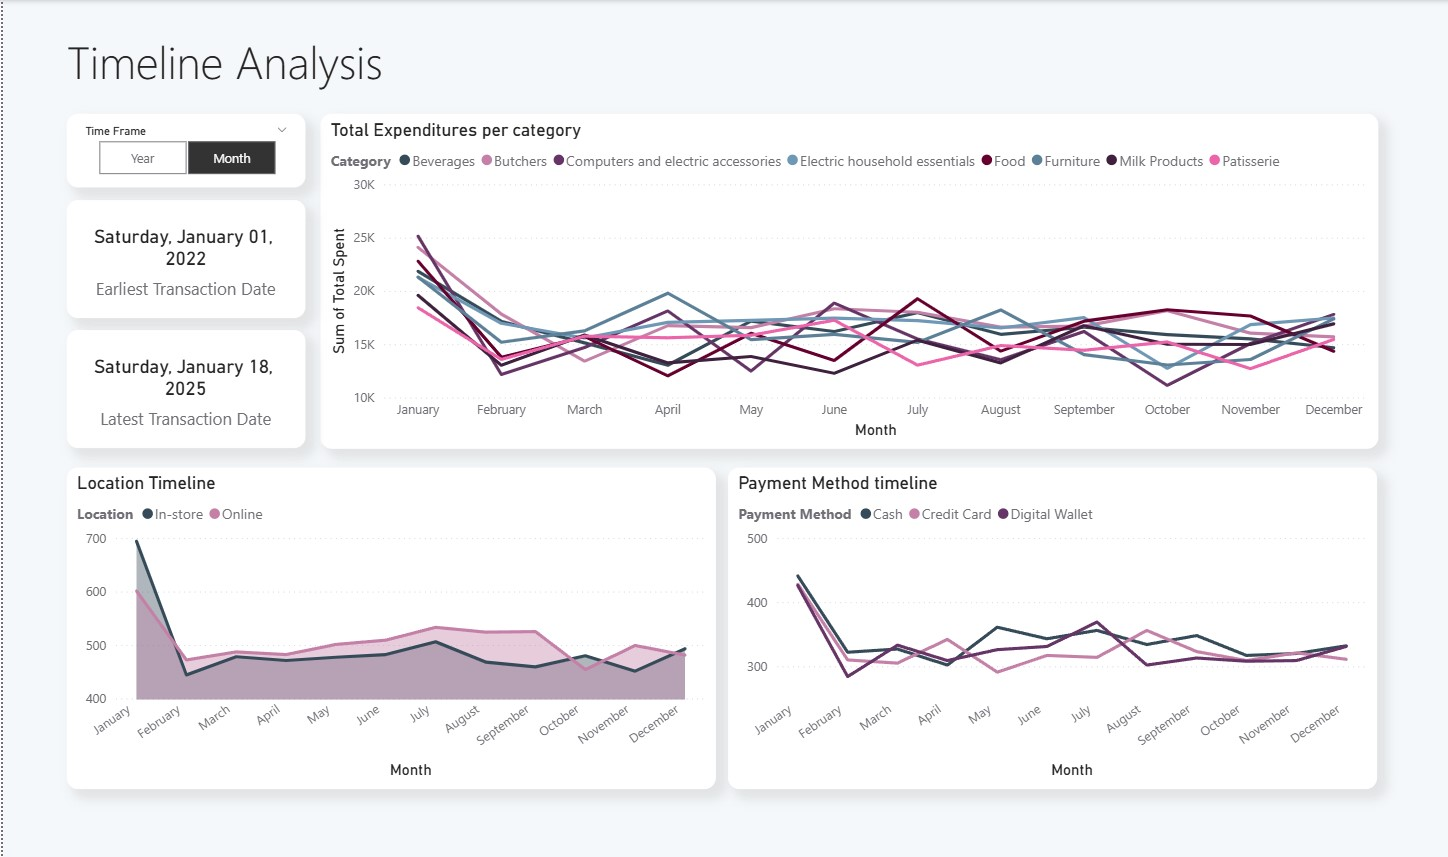

The page's visual inventory and layout, read from the dashboard file:
{"tool":"powerbi","page":{"name":"Timeline Analysis","canvas":[1380,820],"ordinal":2},"visuals":[{"type":"lineChart","title":"Total Expenditures per category","fields":{"Category":["Retail_data.Transaction Date.Variation.Date Hierarchy.Month"],"Y":["Sum(Retail_data.Total Spent)"],"Series":["Retail_data.Category"]},"box":[302.8,108.4,1010,320],"z":0},{"type":"slicer","fields":{"Values":["Parameter.Parameter"]},"box":[60.8,108.4,228,70],"z":1000},{"type":"card","fields":{"Values":["Min(Retail_data.Transaction Date)"]},"box":[60.8,191.4,228,113],"z":2000},{"type":"card","fields":{"Values":["Max(Retail_data.Transaction Date)"]},"box":[60.8,315.4,228,113],"z":3000},{"type":"areaChart","title":"Location Timeline","fields":{"Category":["Retail_data.Transaction Date.Variation.Date Hierarchy.Month"],"Y":["CountNonNull(Retail_data.Transaction ID)"],"Series":["Retail_data.Location"]},"box":[60.8,446.4,620,307.5],"z":3001},{"type":"lineChart","title":"Payment Method timeline","fields":{"Category":["Retail_data.Transaction Date.Variation.Date Hierarchy.Month"],"Y":["CountNonNull(Retail_data.Transaction ID)"],"Series":["Retail_data.Payment Method"]},"box":[692,446.4,620,307.5],"z":3002},{"type":"textbox","box":[56,24,464,74],"z":3003}]}

Visuals, with their boxes in screenshot pixels (x1, y1, x2, y2), scaled from the page's 1380x820 canvas onto the 1448x857 screenshot:
"Total Expenditures per category" lineChart: 318 113 1377 448
slicer - Parameter.Parameter: 64 113 303 186
card - Min(Retail_data.Transaction Date): 64 200 303 318
card - Max(Retail_data.Transaction Date): 64 330 303 448
"Location Timeline" areaChart: 64 467 714 788
"Payment Method timeline" lineChart: 726 467 1377 788
textbox: 59 25 546 102
